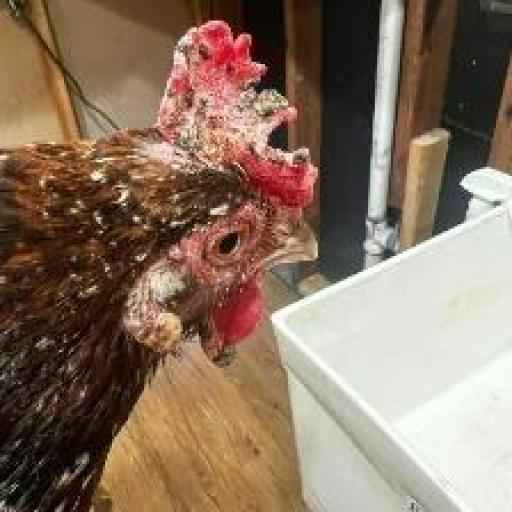disease: (143, 14, 317, 190), (110, 235, 203, 381), (193, 198, 275, 292), (213, 313, 249, 384)
